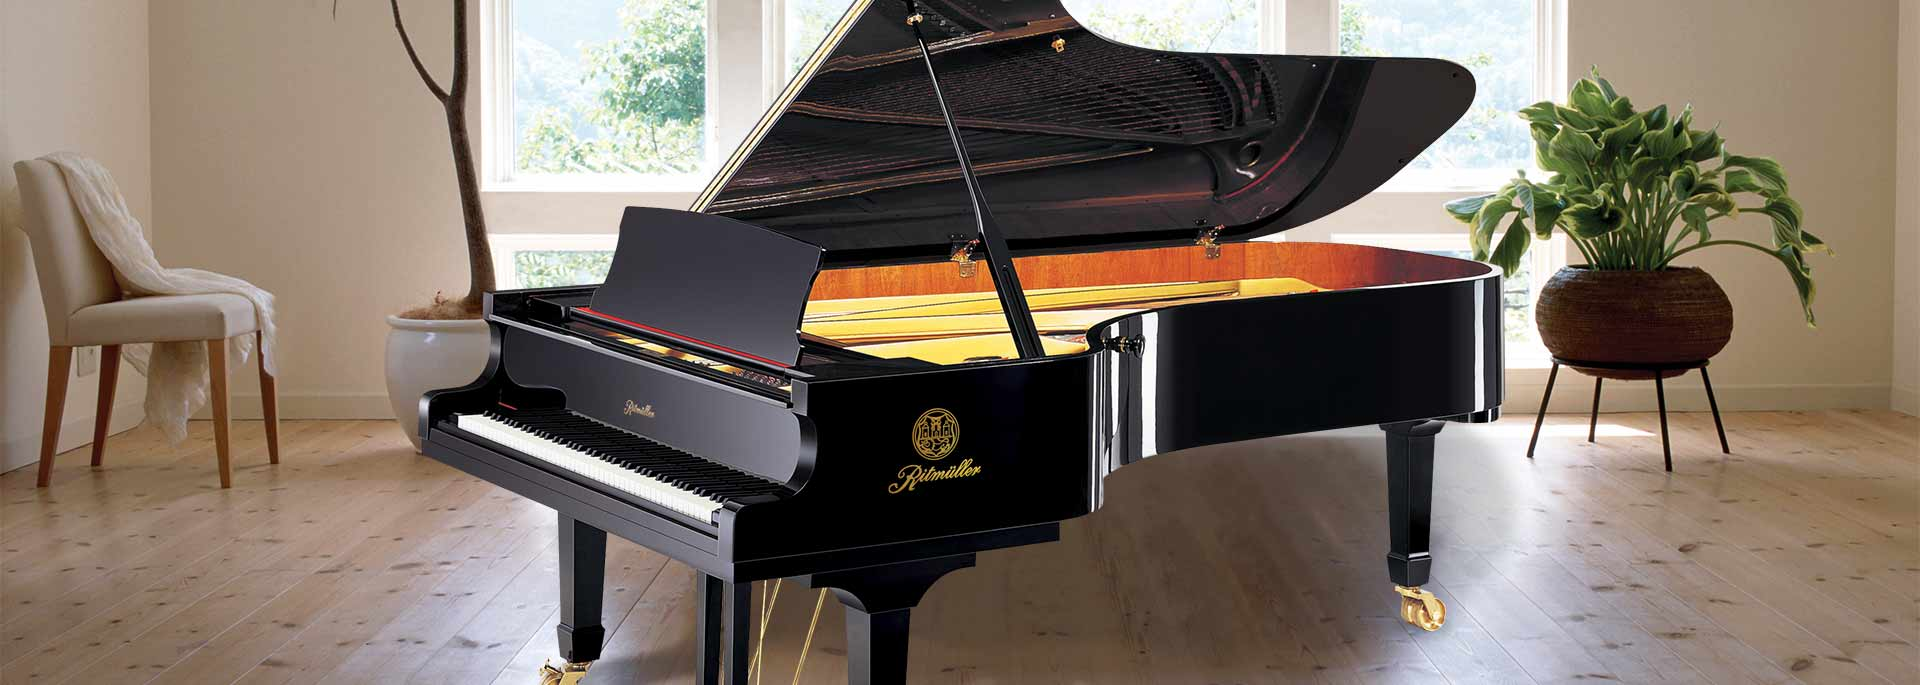GrandPiano: (405, 86, 1538, 538)
